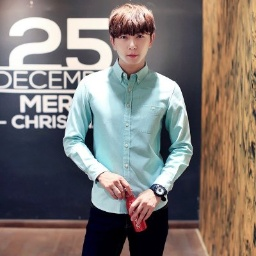face: (107, 2, 157, 67)
